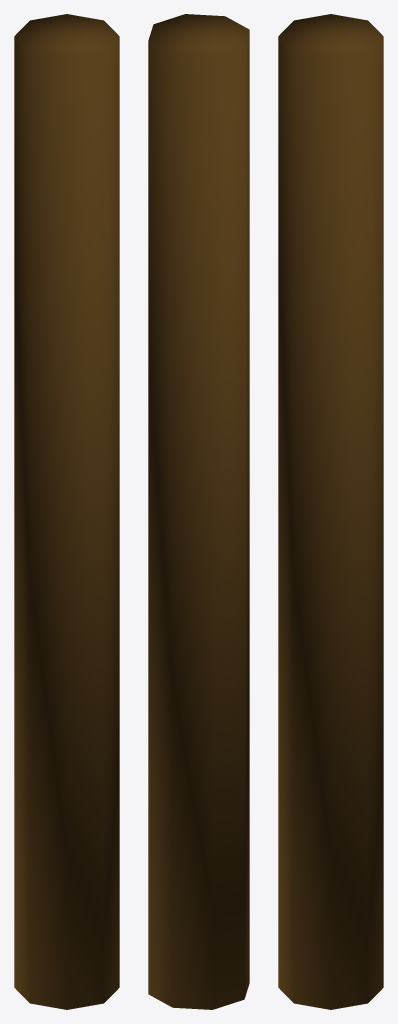
The model's file is fence_ending.fbx.
3 renders of one model, left to right at view 1: azimuth 90°, elevation 25°; view 2: azimuth 150°, elevation 25°; view 3: azimuth 270°, elevation 25°, orthographic.
Visible parts, largest first — view 1: fence_ending; view 2: fence_ending; view 3: fence_ending.
Boxes of the visible parts, x1,y1,x2,y2 form: fence_ending: (14,14,119,1009); fence_ending: (148,14,249,1009); fence_ending: (278,14,383,1009).
Bounding box in the file's own units: 30 × 300 × 30.
